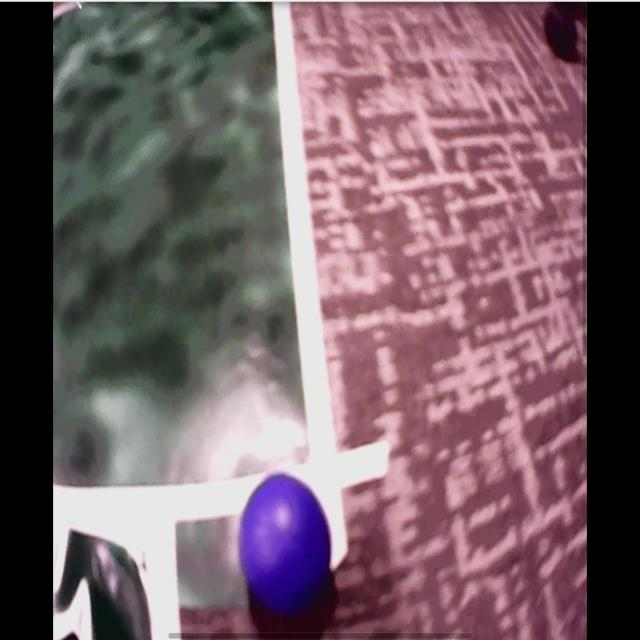ball: (240, 473, 333, 614)
